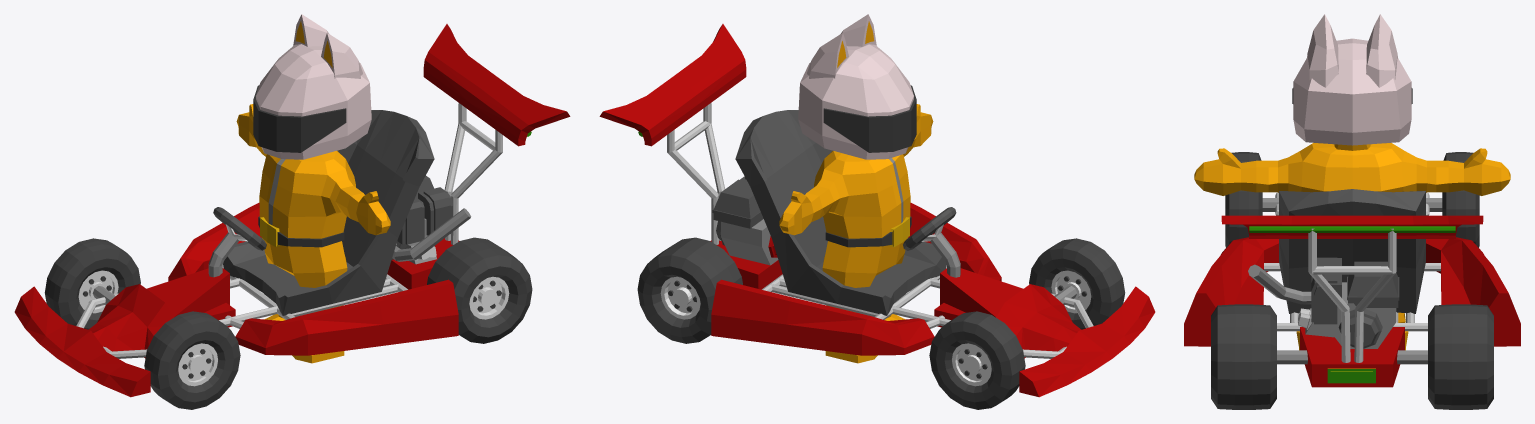
The model's file is celty_Gcar.fbx.
3 renders of one model, left to right at view 1: azimuth 30°, elevation 25°; view 2: azimuth 150°, elevation 25°; view 3: azimuth 270°, elevation 25°, orthographic. The views are drawn at different scales.
Parts seen in each view (by area): view 1: Go Kart, Celty, Cylinder007, Cylinder002; view 2: Go Kart, Celty, Cylinder007, Cylinder002; view 3: Go Kart, Celty, Cylinder002, Cylinder007.
Boxes of the visible parts, <box> form: Go Kart: <box>14,24,570,397</box>; Celty: <box>236,14,390,363</box>; Cylinder007: <box>44,238,240,409</box>; Cylinder002: <box>427,237,532,343</box>; Go Kart: <box>599,24,1155,397</box>; Celty: <box>779,14,933,363</box>; Cylinder007: <box>929,238,1125,409</box>; Cylinder002: <box>637,237,742,343</box>; Go Kart: <box>1184,189,1520,387</box>; Celty: <box>1194,14,1510,350</box>; Cylinder002: <box>1211,304,1493,409</box>; Cylinder007: <box>1225,152,1479,247</box>.
Bounding box in the file's own units: 249 × 166 × 147.
